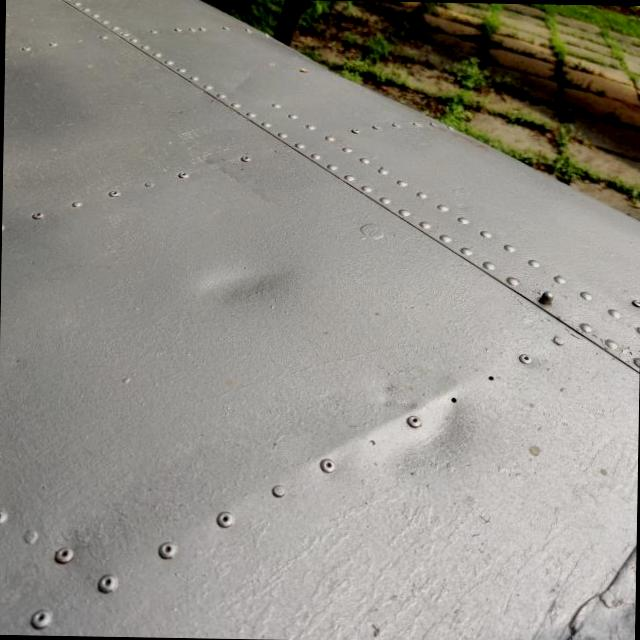dent: (334, 371, 498, 492), (182, 259, 324, 335)
